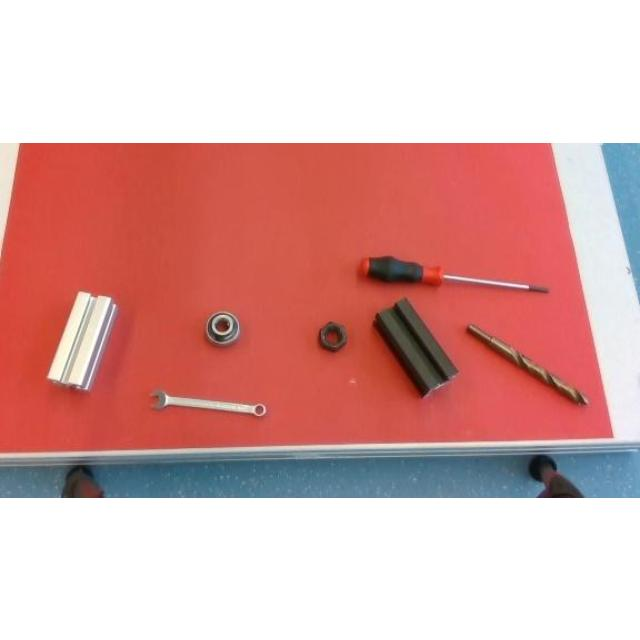Bearing2: (204, 310, 240, 344)
Drill: (467, 324, 589, 404)
M20: (318, 320, 347, 350)
S40_40_B: (375, 297, 457, 395)
S40_40_G: (46, 291, 116, 389)
